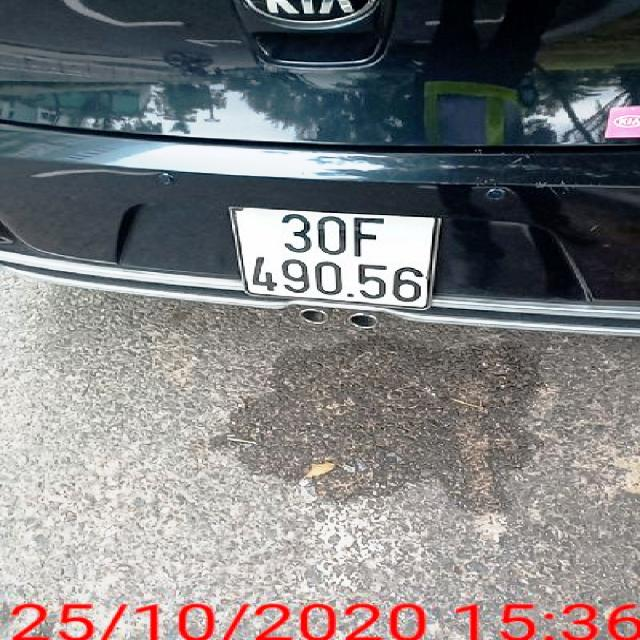license_plate: (230, 211, 440, 309)
